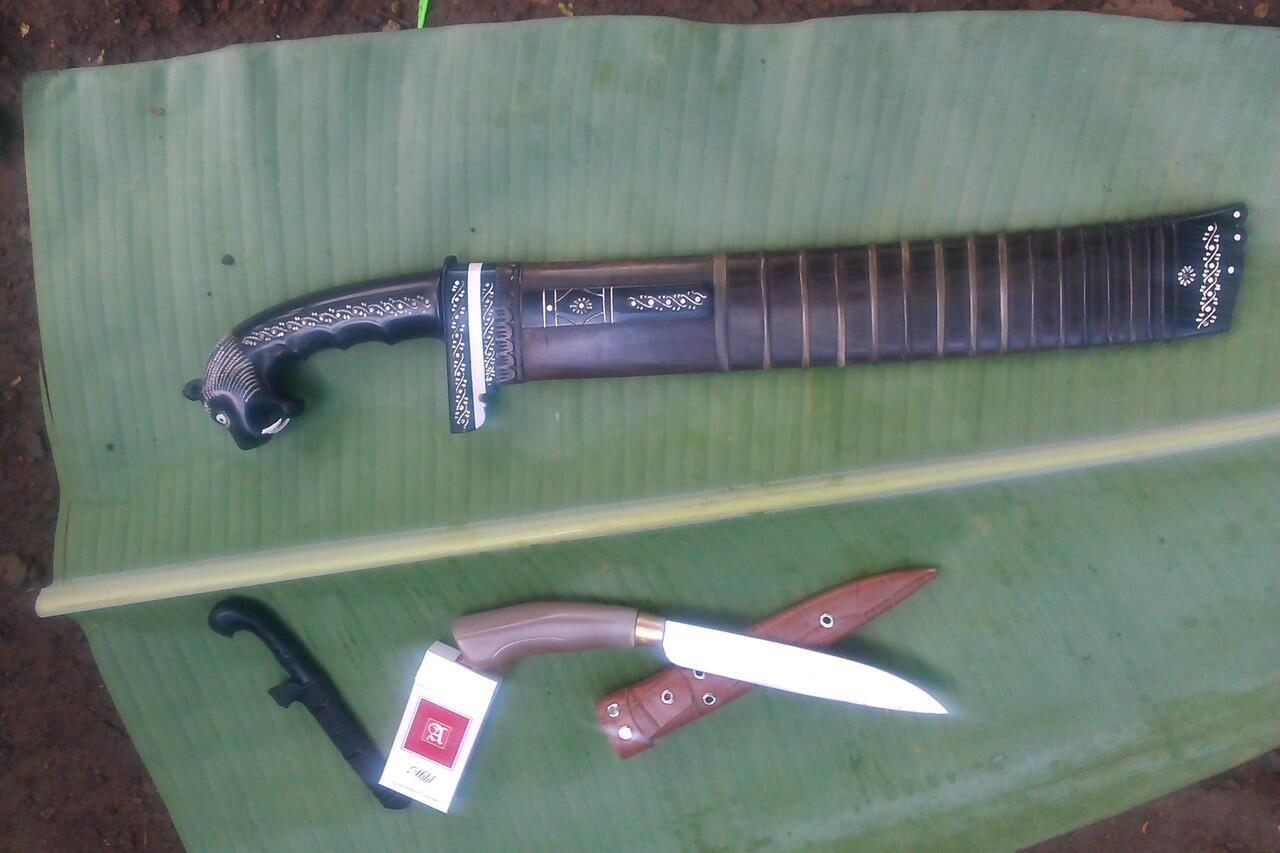faca: (429, 602, 947, 714)
facao: (480, 205, 1245, 398), (196, 259, 480, 448)
